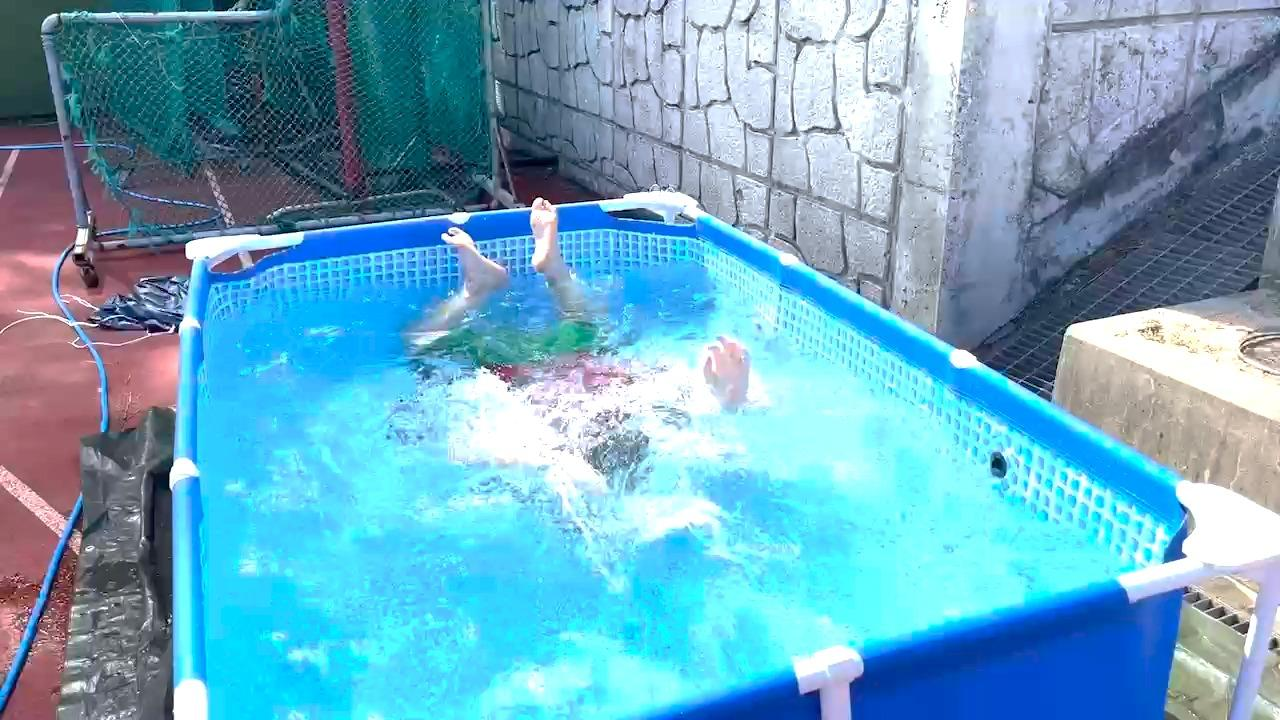Drowning: (417, 198, 760, 503)
